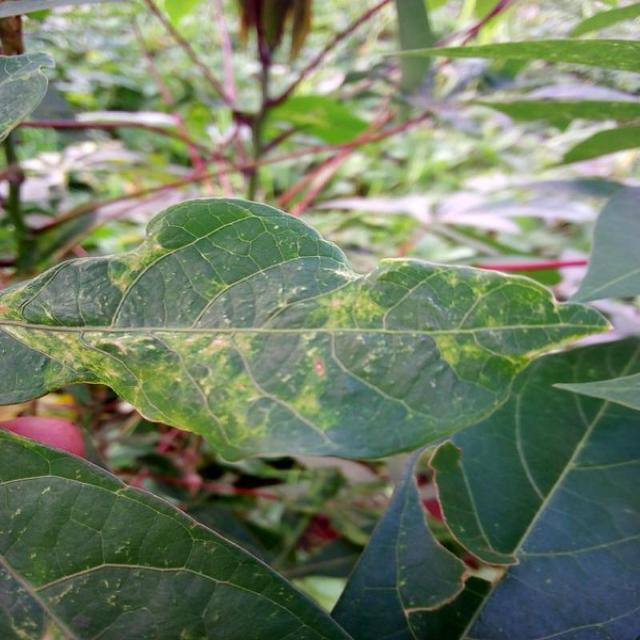cassava leaf: (1, 194, 614, 464), (2, 424, 356, 638)
